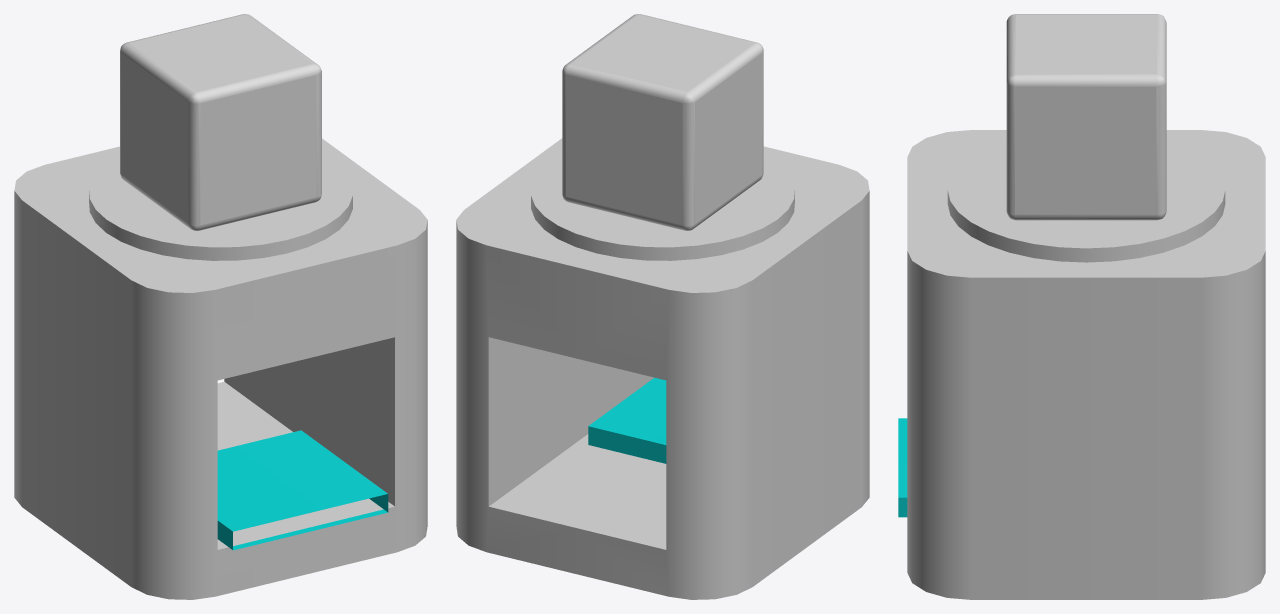
Rendered from TrainStationLoaderInternalVariant.gltf.
The picture shows the model from 3 angles, left to right: view 1: azimuth 30°, elevation 25°; view 2: azimuth 150°, elevation 25°; view 3: azimuth 270°, elevation 25°; orthographic projection. The views are drawn at different scales.
Visible parts, largest first — view 1: TrainStation_Loader_Main_LOD0; view 2: TrainStation_Loader_Main_LOD0; view 3: TrainStation_Loader_Main_LOD0.
Boxes of the visible parts, x1=… form: TrainStation_Loader_Main_LOD0: x1=14, y1=14, x2=427, y2=599; TrainStation_Loader_Main_LOD0: x1=456, y1=14, x2=869, y2=599; TrainStation_Loader_Main_LOD0: x1=898, y1=14, x2=1265, y2=599.
Bounding box in the file's own units: 0.9303 × 1.41 × 0.9778.
